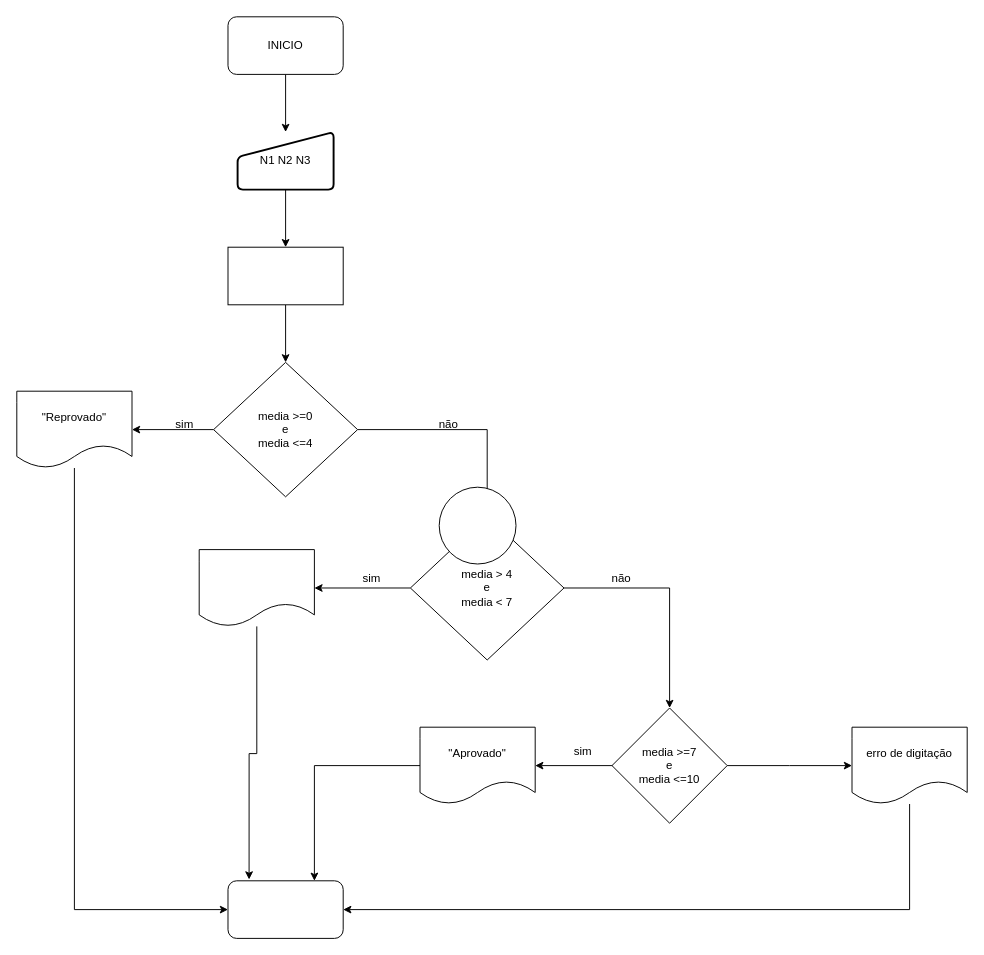
Image size: 984x955. Some labels were removed from this diagram. Each missing label, with the centre of its shape:
"Recuperação": point 256,587
fim: point 285,909
média = (n1 + n2 + n3) / 3: point 285,275
rv: point 477,525
